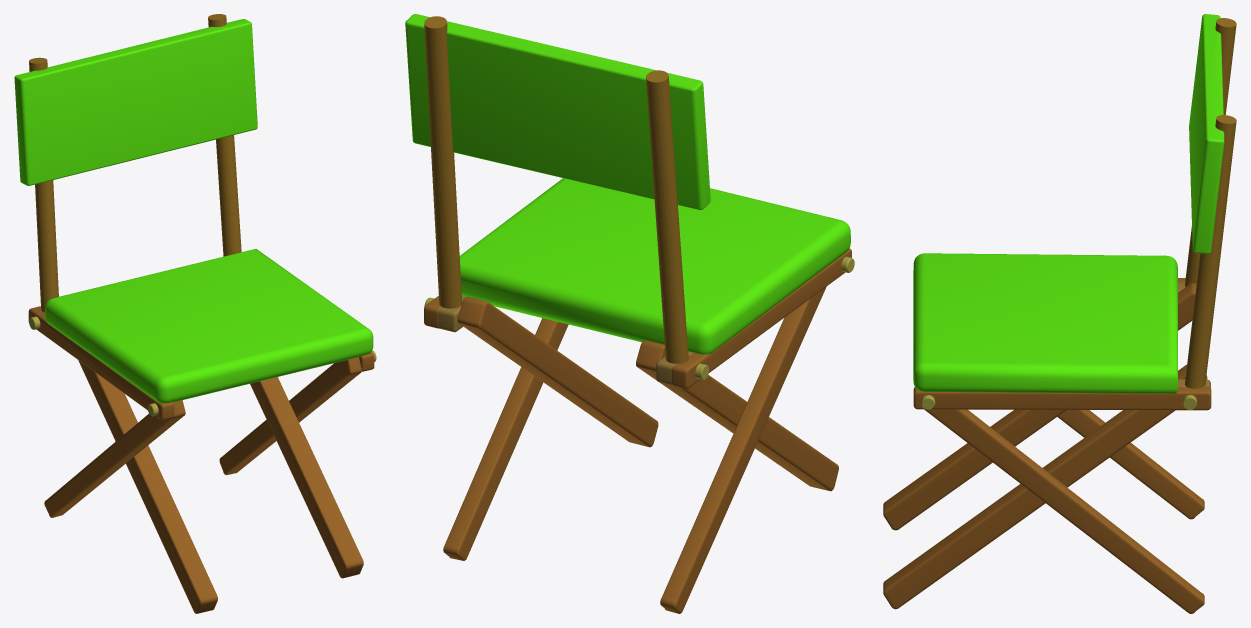
The picture shows the model from 3 angles, left to right: view 1: azimuth 30°, elevation 25°; view 2: azimuth 150°, elevation 25°; view 3: azimuth 270°, elevation 25°; orthographic projection. The views are drawn at different scales.
Visible parts, largest first — view 1: 立方体, 立方体.005, 立方体.002, 立方体.003, 柱体.002, 立方体.001; view 2: 立方体, 立方体.005, 立方体.003, 立方体.002, 柱体.002, 立方体.001, 立方体.004; view 3: 立方体, 立方体.002, 立方体.003, 立方体.005, 柱体.002, 立方体.001.
Part boxes in pixels (x1,y1,x2,y2): 立方体: [45, 249, 373, 403]; 立方体.005: [14, 19, 257, 185]; 立方体.002: [78, 360, 363, 613]; 立方体.003: [44, 357, 361, 517]; 柱体.002: [29, 14, 241, 312]; 立方体.001: [28, 306, 374, 420]; 立方体: [459, 178, 850, 354]; 立方体.005: [405, 14, 710, 209]; 立方体.003: [443, 286, 826, 613]; 立方体.002: [457, 296, 838, 491]; 柱体.002: [424, 16, 688, 363]; 立方体.001: [424, 248, 851, 388]; 立方体.004: [438, 296, 693, 385]; 立方体: [913, 253, 1177, 393]; 立方体.002: [883, 283, 1207, 609]; 立方体.003: [924, 409, 1204, 613]; 立方体.005: [1189, 14, 1224, 253]; 柱体.002: [1185, 18, 1236, 388]; 立方体.001: [913, 278, 1211, 410].
Bounding box in the file's own units: 216 × 395 × 255.
